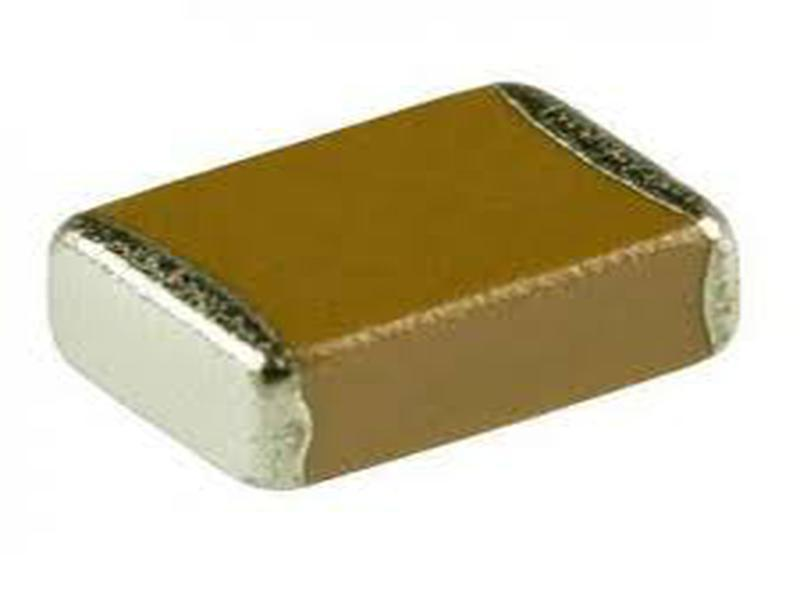SMD capacitor: (47, 79, 762, 484)
